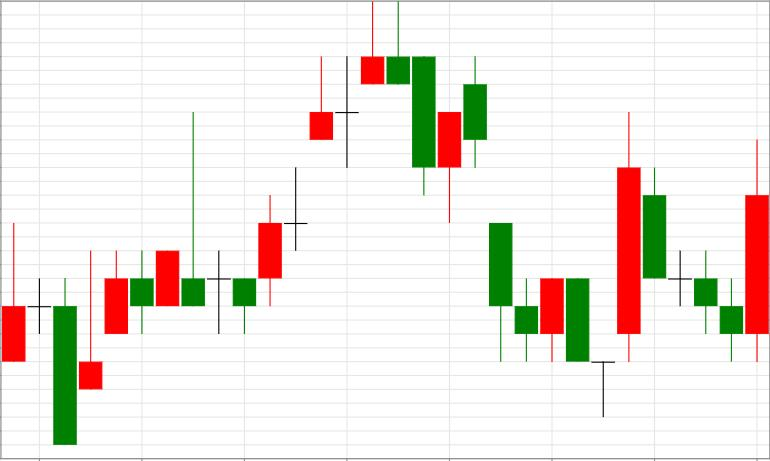bullish_engulfing_rise: (642, 139, 768, 362)
morning_star_rise: (464, 56, 640, 417)
shooting_star_fall: (258, 2, 409, 307), (258, 2, 384, 306)
